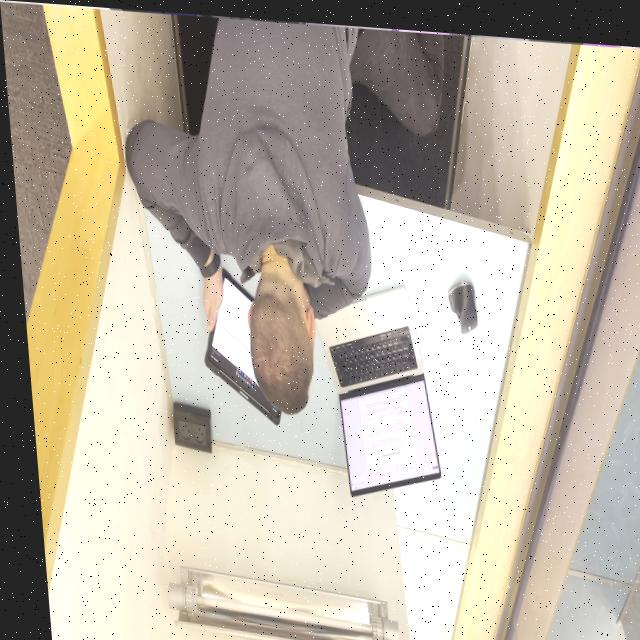bag: (191, 263, 276, 424)
ipad: (113, 7, 469, 423)
laptop: (306, 274, 436, 498)
mouse: (442, 273, 474, 329)
